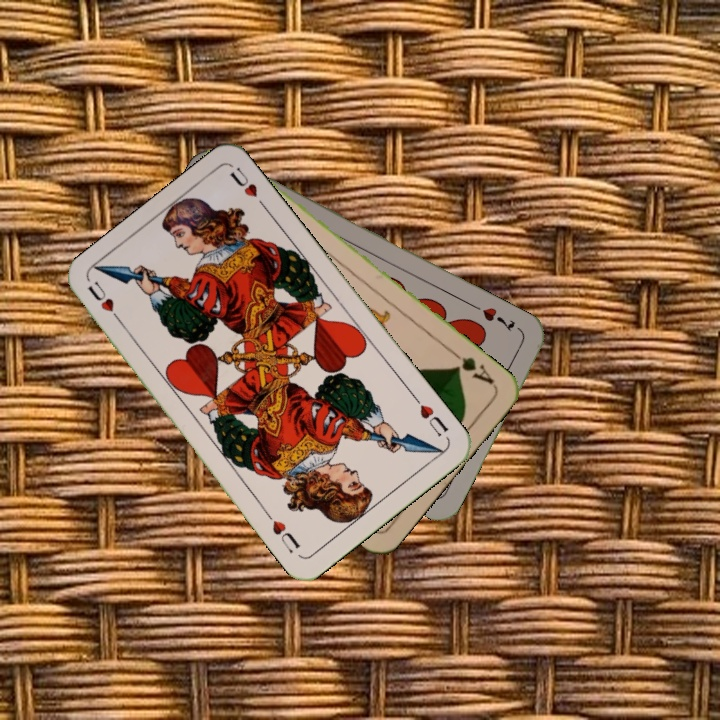GA: (447, 346, 497, 388)
H7: (478, 303, 518, 335)
HU: (83, 277, 127, 328), (409, 392, 451, 440)
